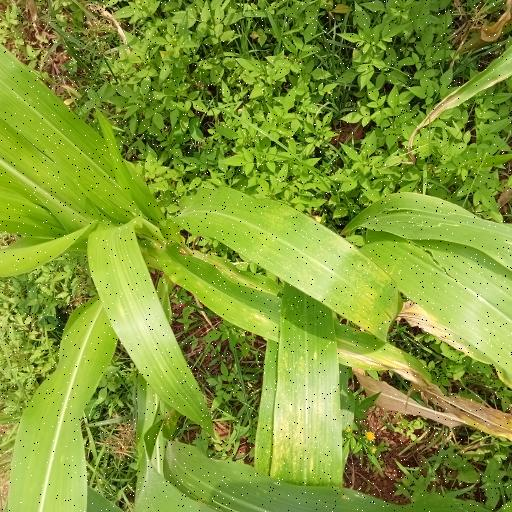Corn_Brown_Spots: (0, 39, 141, 512), (160, 184, 425, 347), (262, 287, 368, 489)
